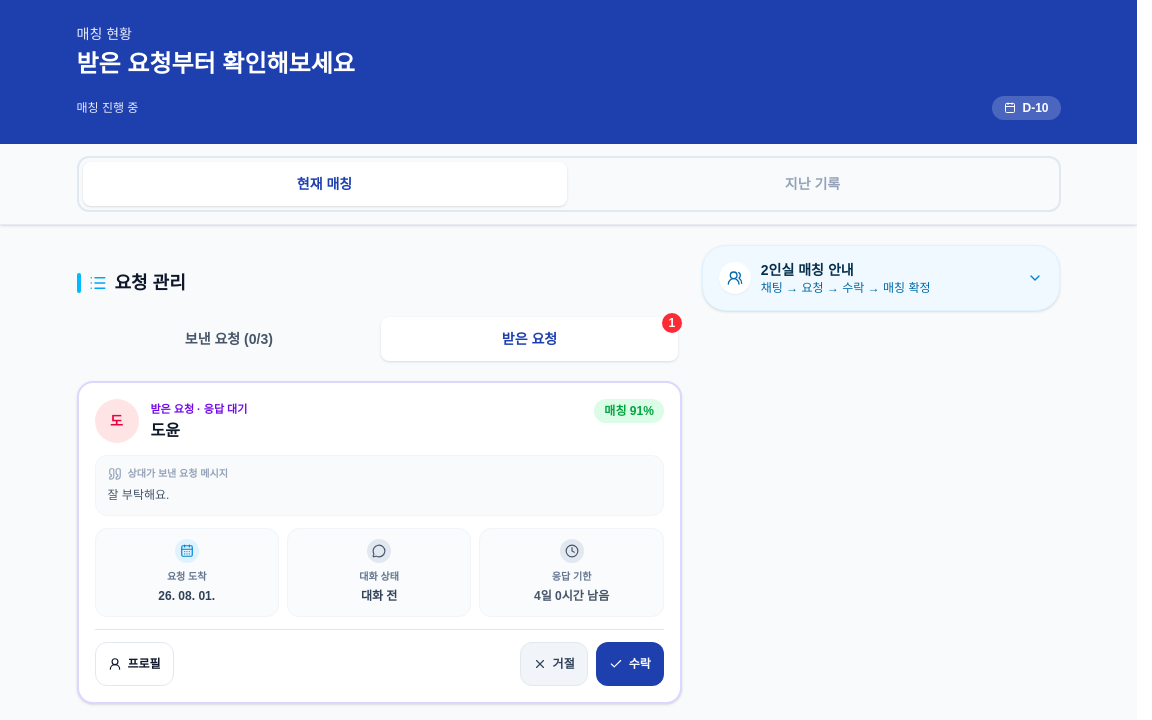
Test: MatchingTab canonical runtime › request detailEntryToken을 roommate-search public detail owner에 전달한다
What coordinates should you click on to do the following:
click the button named "도윤 프로필 상세 보기"
I would click on:
 (134, 664)
Its box is [94, 642, 174, 686].
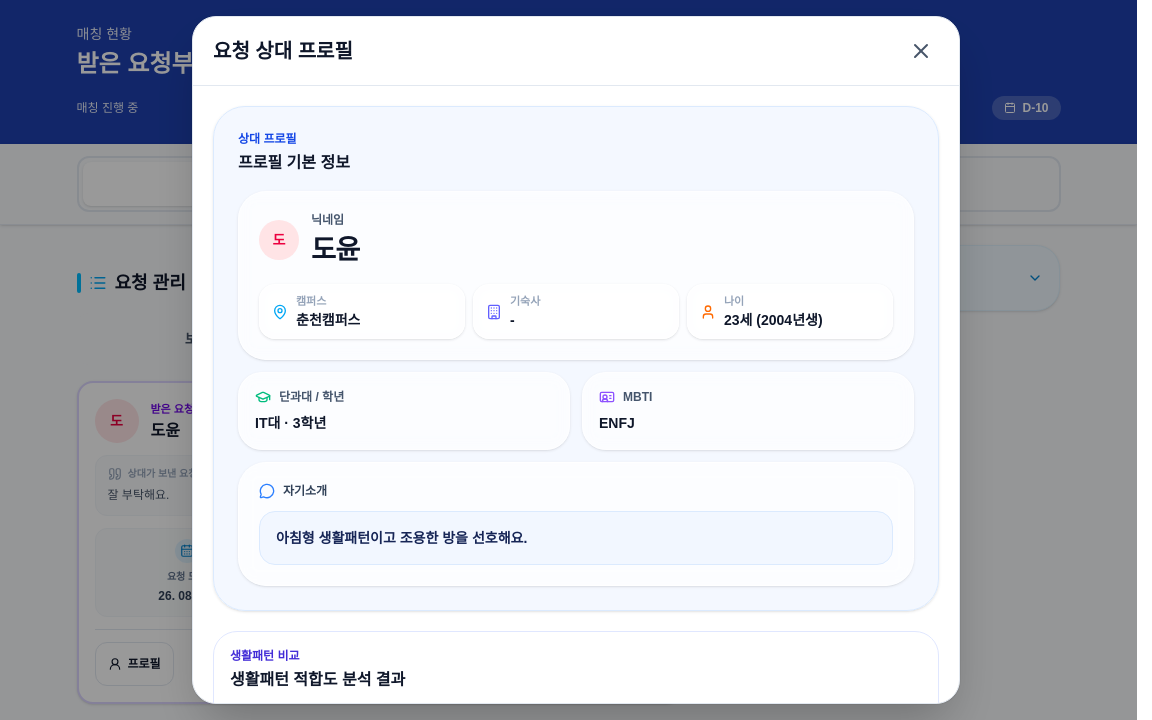
Now the heading "도윤" is shown, box [311, 234, 360, 265]
Now the heading "생활패턴 적합도 분석 결과" is shown, box [230, 671, 405, 688]
